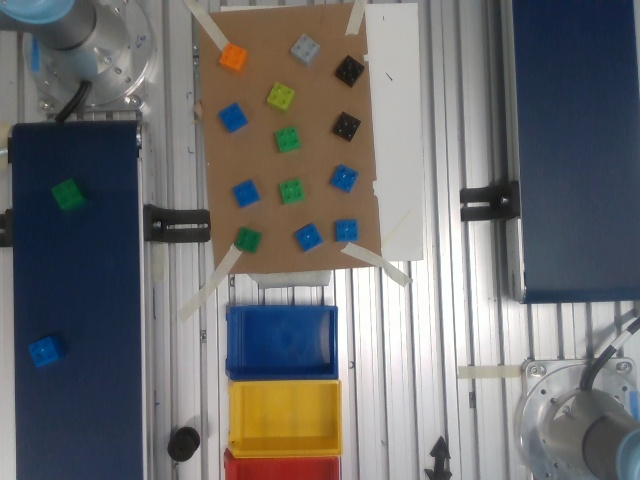duplo_4_blue: (293, 219, 323, 254), (230, 176, 262, 208), (219, 99, 247, 135), (332, 213, 361, 246), (330, 165, 360, 191)
ignore: (288, 31, 325, 68), (262, 79, 299, 115), (271, 120, 307, 156), (334, 48, 366, 88), (330, 109, 363, 143), (217, 44, 250, 73), (232, 226, 264, 253), (278, 175, 304, 206)
